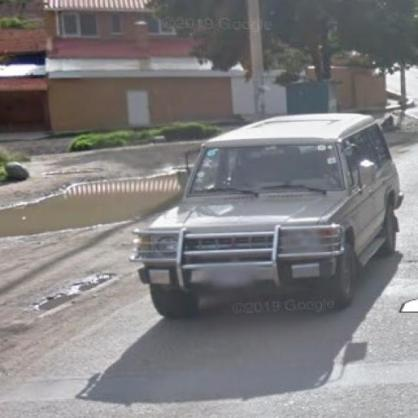car: (134, 112, 406, 317)
